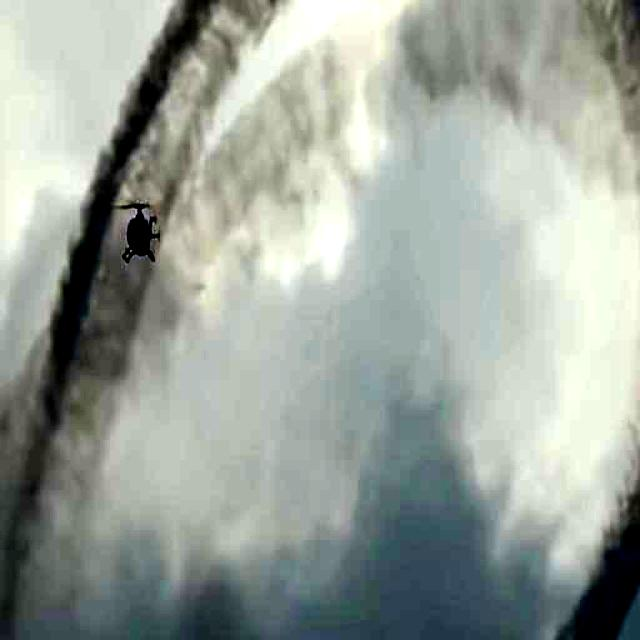drone: (109, 181, 180, 270)
